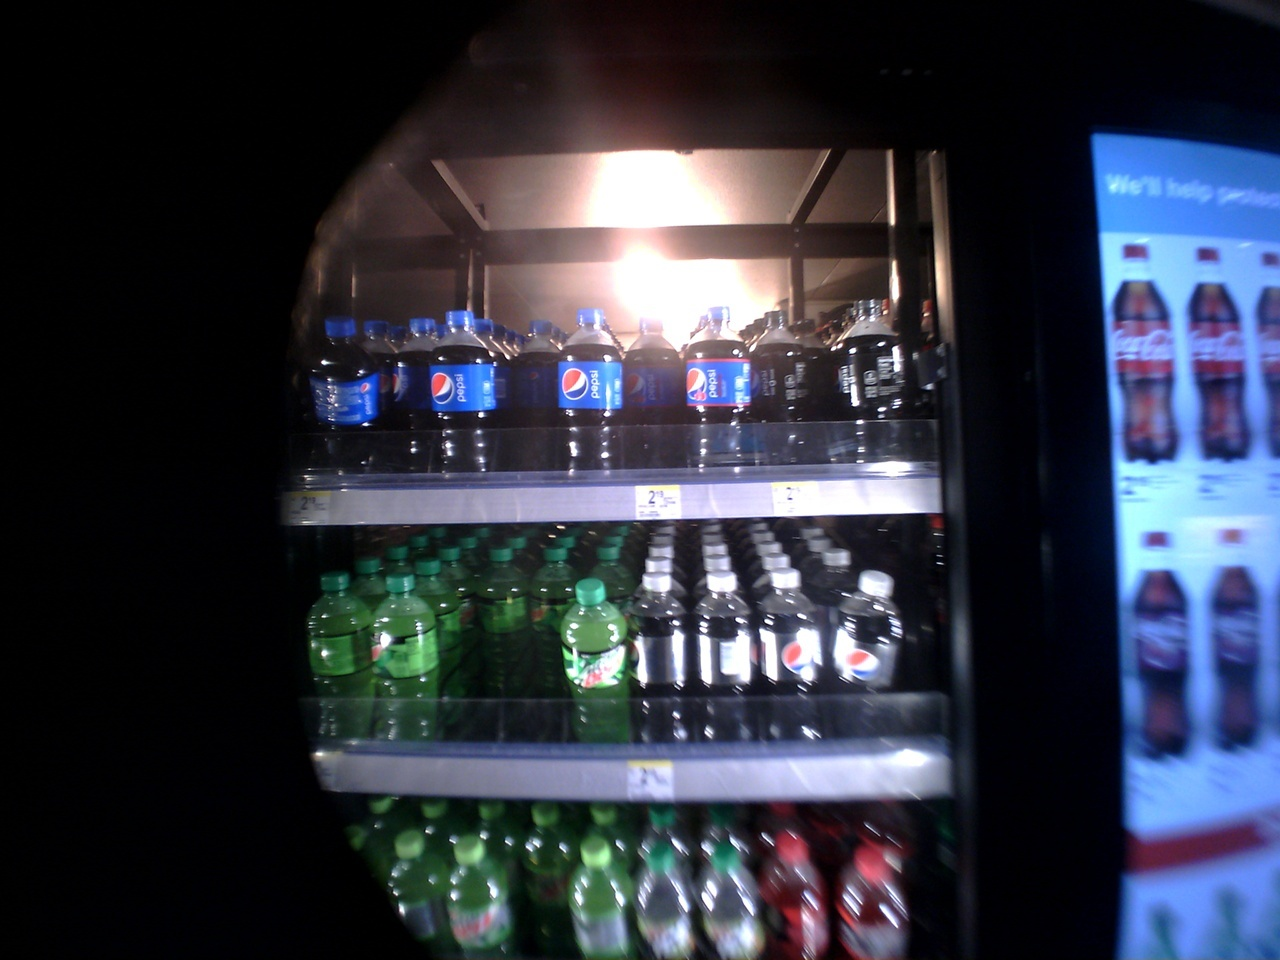shelf: (282, 514, 919, 802), (279, 265, 938, 523), (244, 793, 964, 960)
